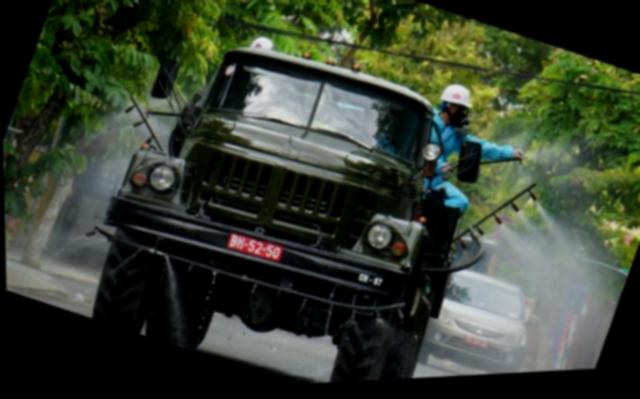License_Plate: (219, 227, 288, 270)
